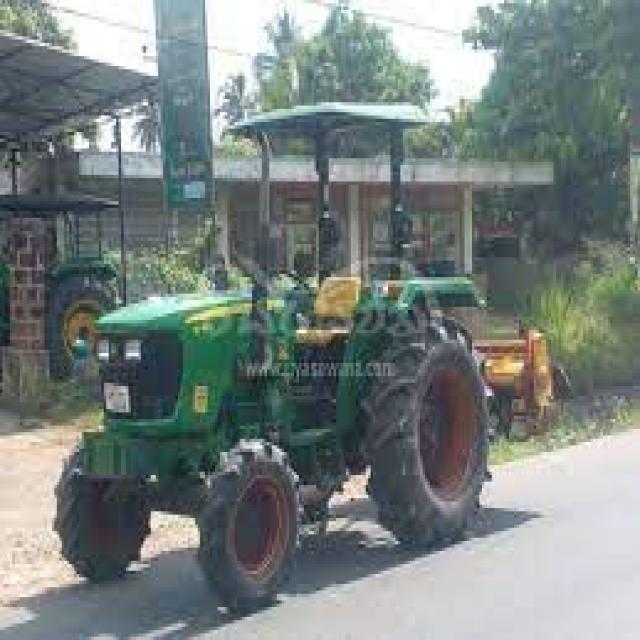tractor: (54, 102, 484, 607), (0, 195, 116, 379)
